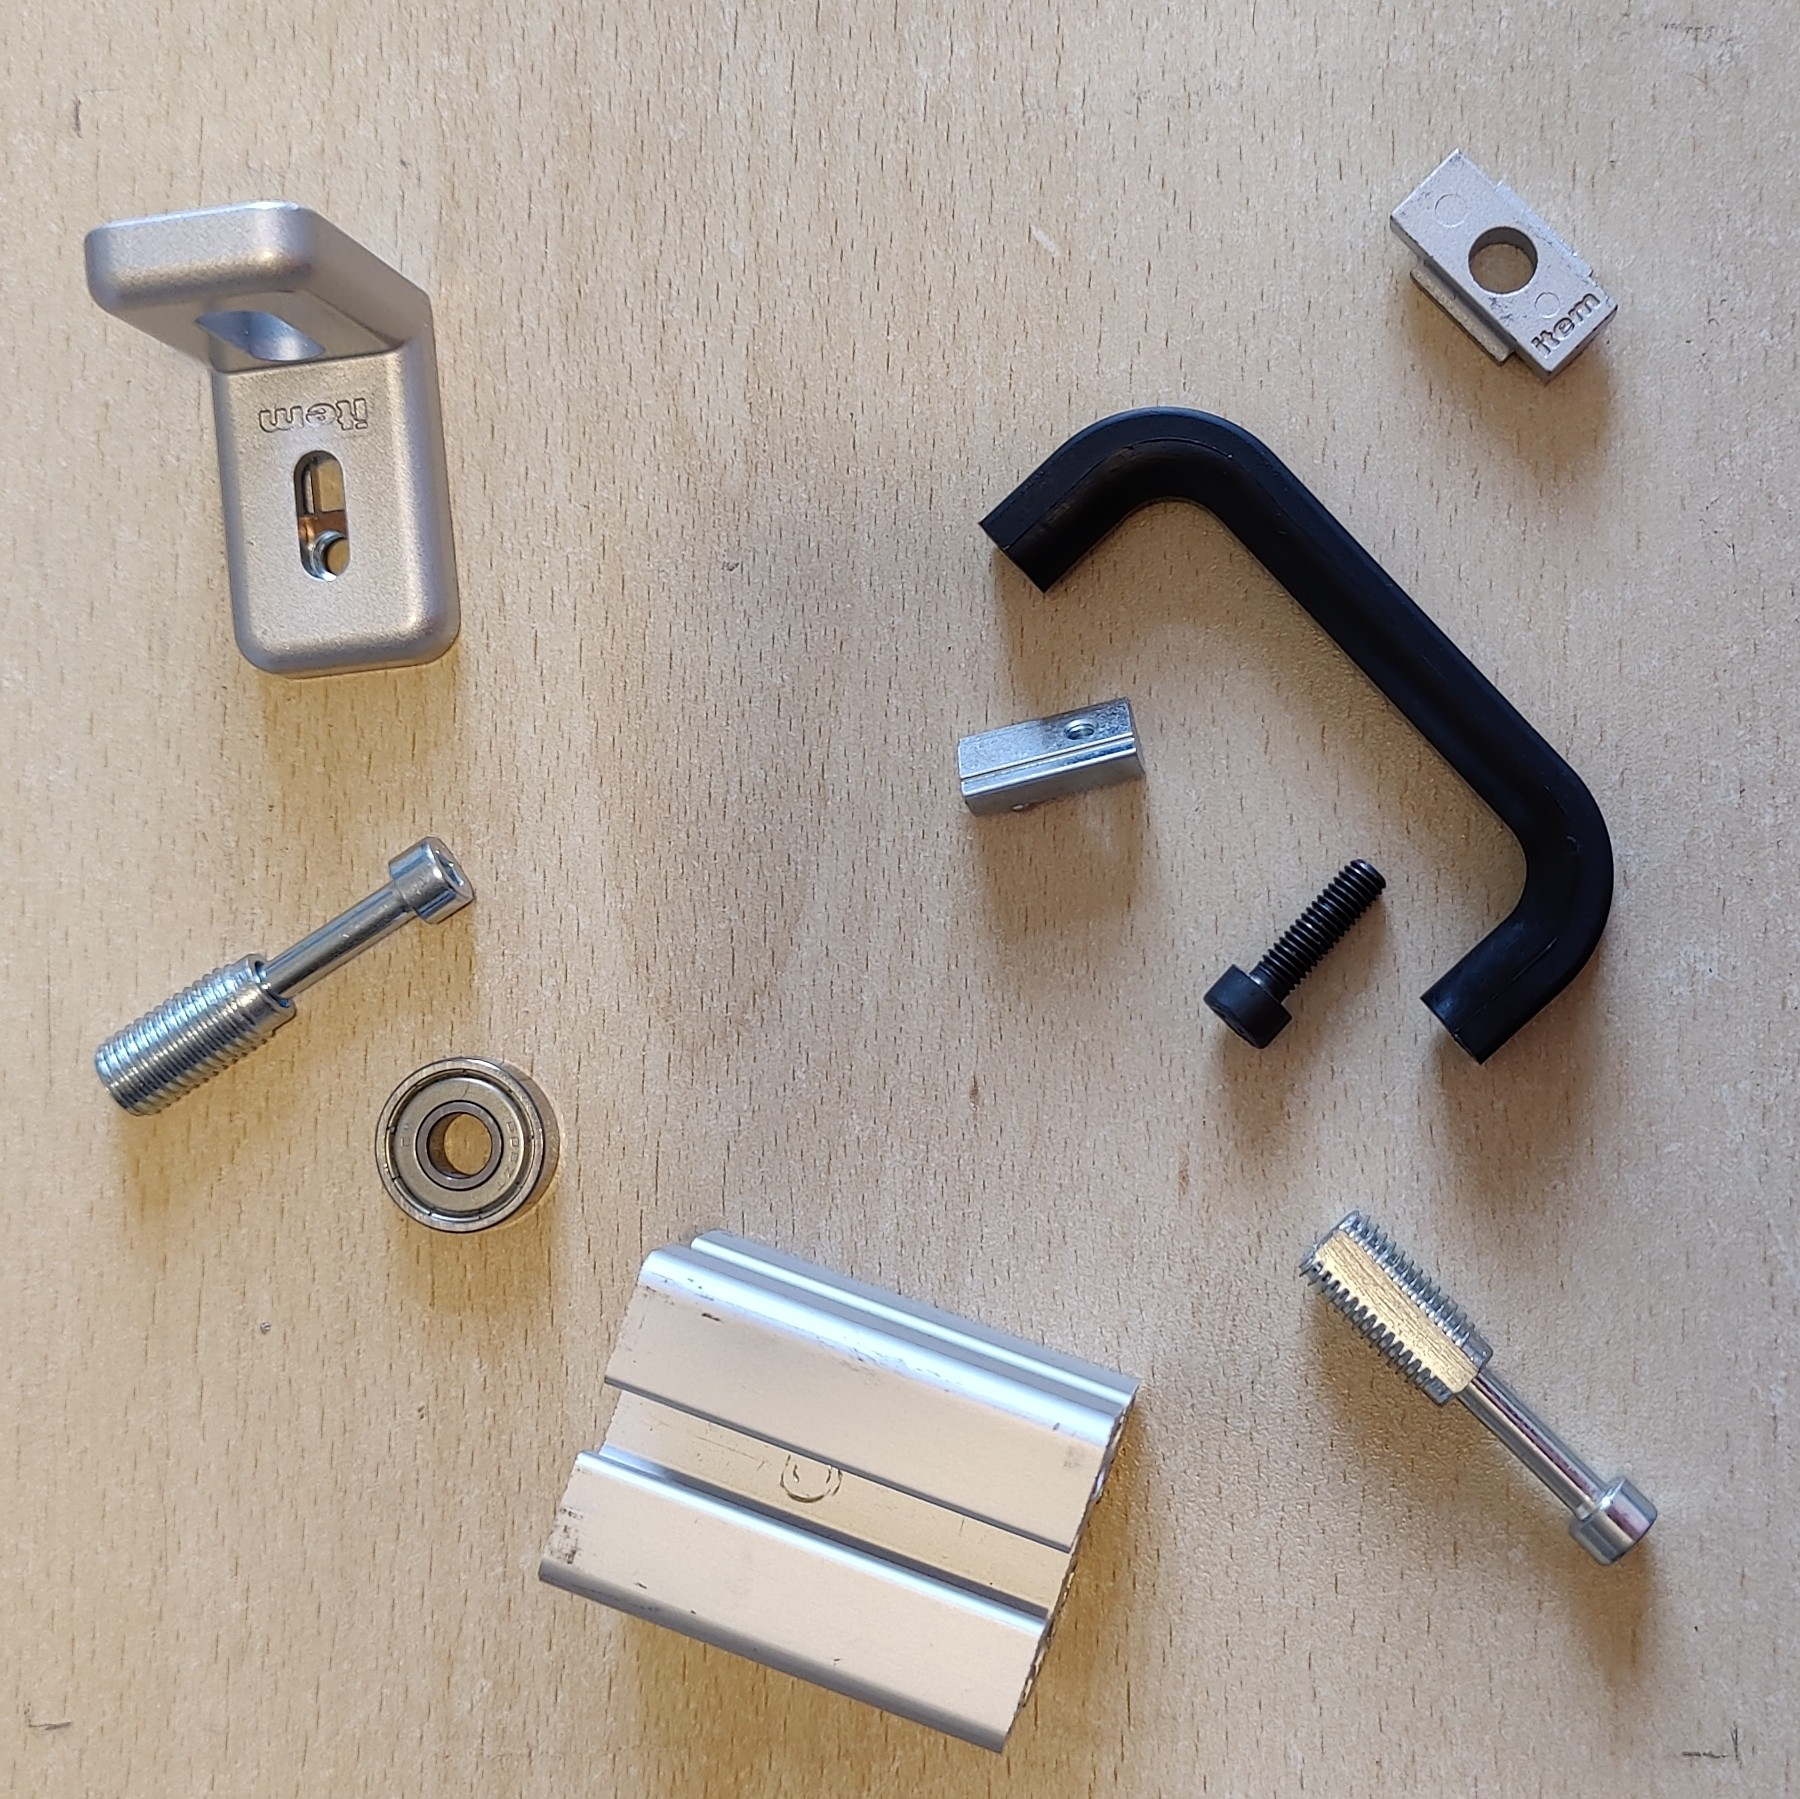Aluminium Extension: (535, 1229, 1141, 1755)
Ball Bearing: (372, 1053, 562, 1236)
Multiwinkel: (82, 203, 463, 680)
Pull Handle: (975, 404, 1616, 1064)
Shoulder Socket Head Cap Screw: (1293, 1209, 1662, 1572), (92, 834, 478, 1119)
Socket Head Cap Screw: (1202, 853, 1390, 1049)
T Nut Square: (1385, 143, 1617, 389)
T Spring Nut: (955, 694, 1151, 819)
